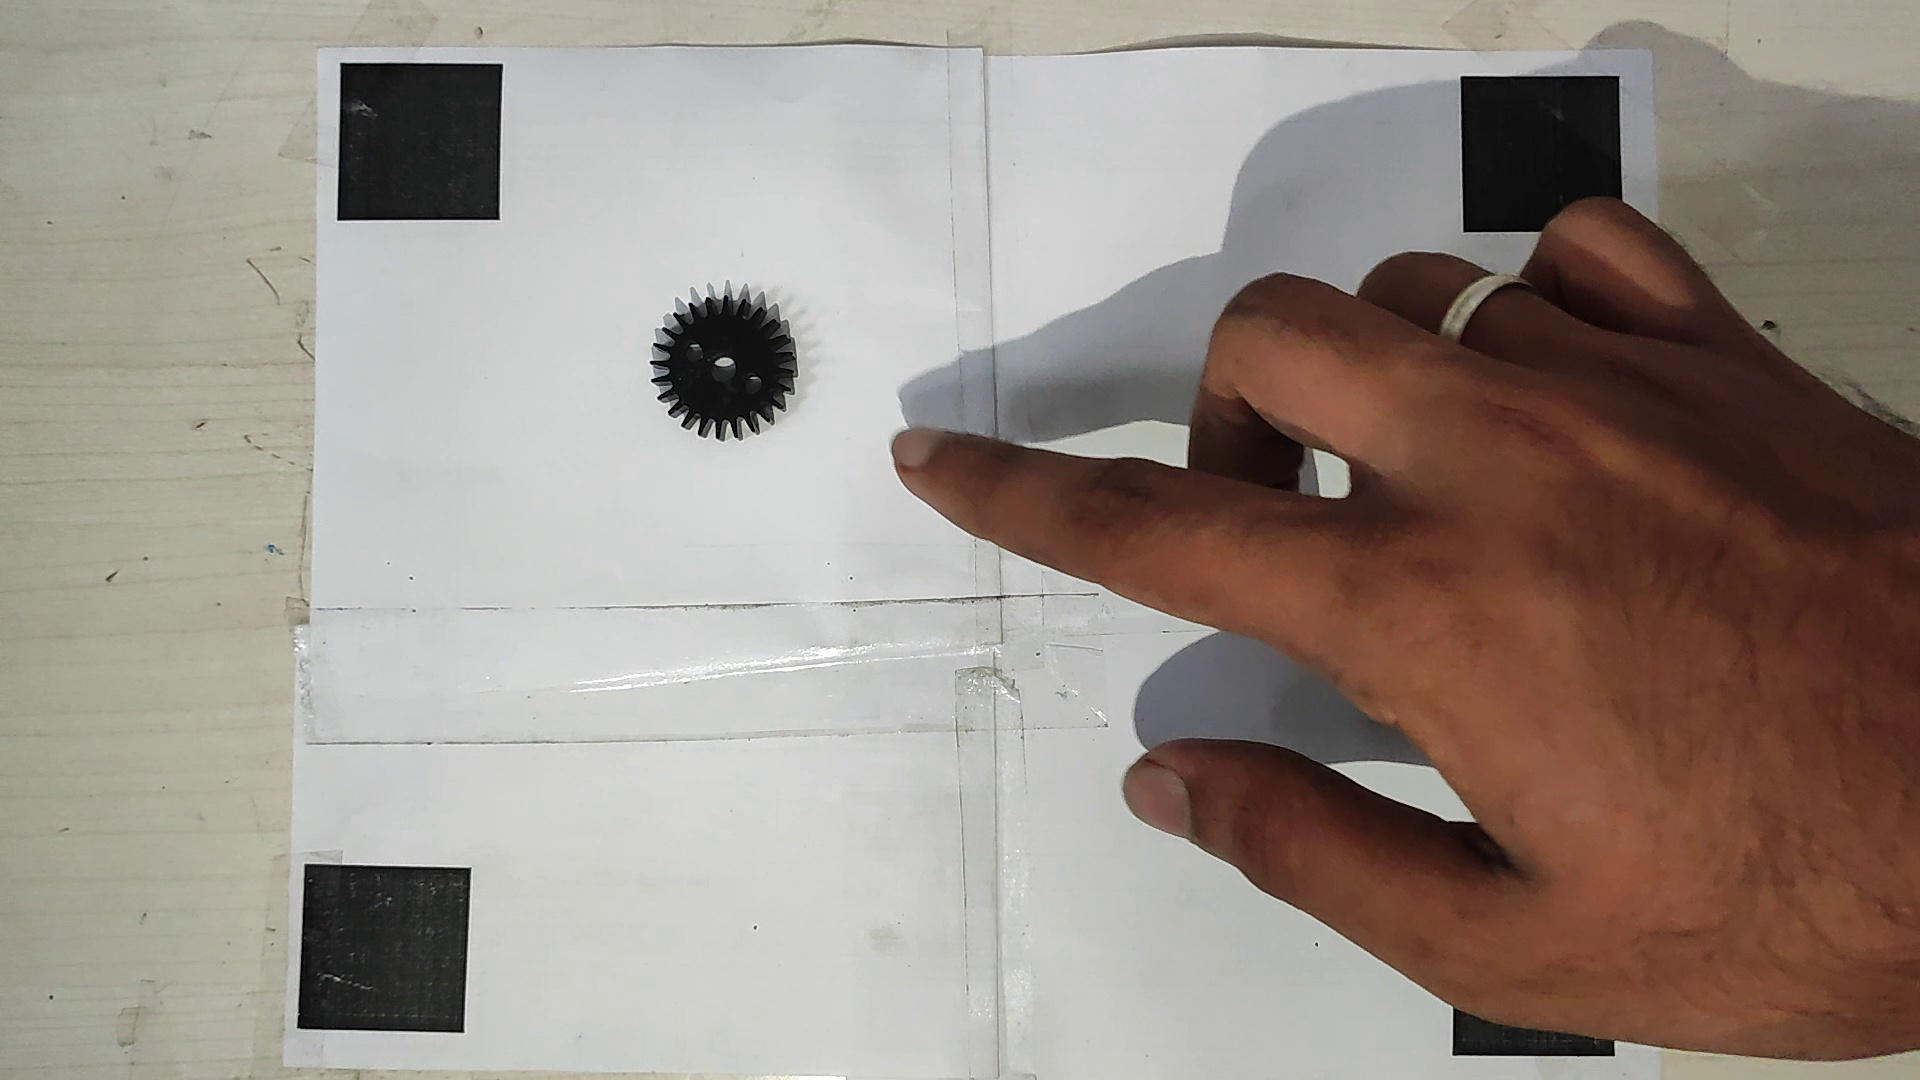Gear: (646, 294, 799, 441)
